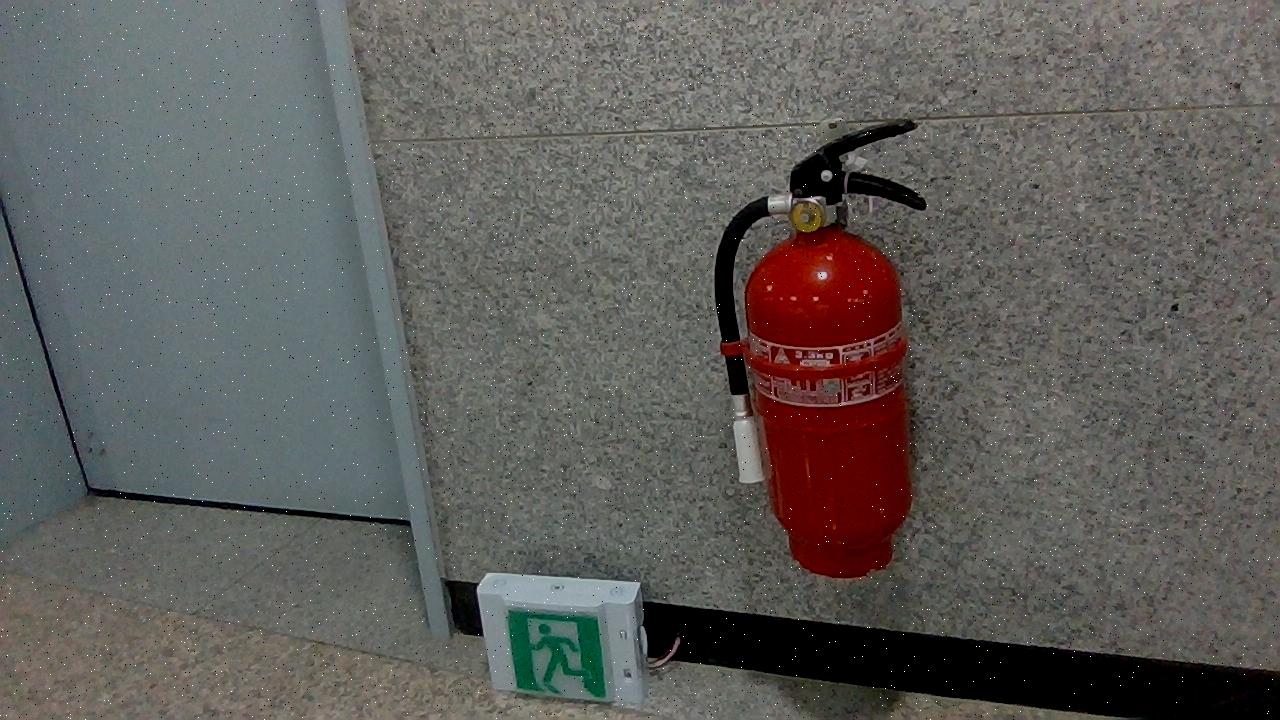emergency_exit: (713, 118, 928, 579), (475, 571, 647, 708)
